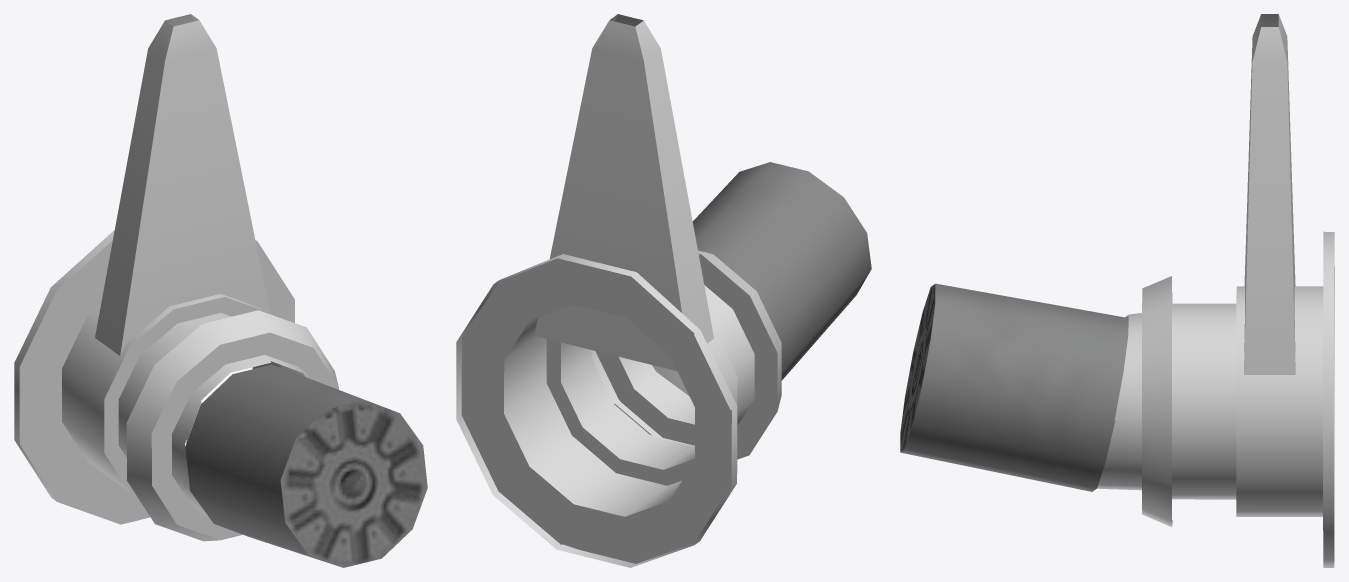
The model's file is rocker_right_link.dae.
The picture shows the model from 3 angles, left to right: view 1: azimuth 30°, elevation 25°; view 2: azimuth 150°, elevation 25°; view 3: azimuth 270°, elevation 25°; orthographic projection. The views are drawn at different scales.
Parts seen in each view (by area): view 1: rocker_right_link; view 2: rocker_right_link; view 3: rocker_right_link.
Boxes of the visible parts, <box> form: rocker_right_link: <box>14,14,427,567</box>; rocker_right_link: <box>456,14,871,567</box>; rocker_right_link: <box>900,14,1334,567</box>.
Size of the model in its own units: 0.2034 by 0.2707 by 0.3635.
Materials: 2 (1 with a texture image).
